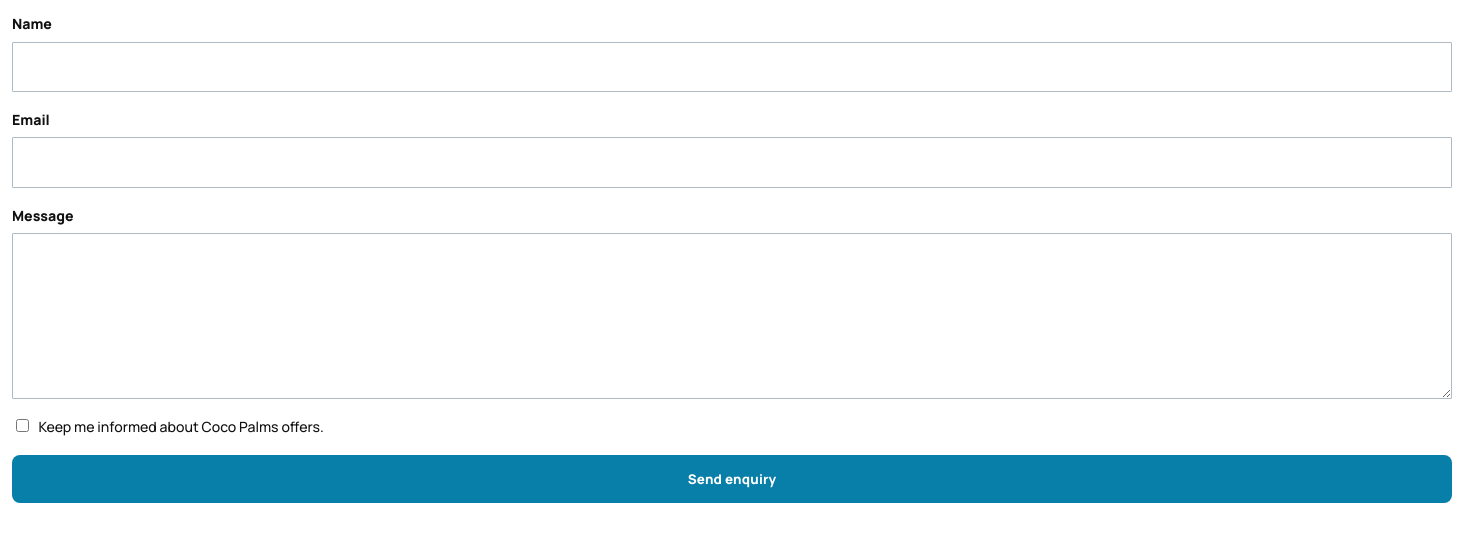
Test case: contact form › records an enquiry after the message succeeds
Type "Alex Guest" into the field labelled "Name" at (732, 67), box [12,42,1452,92]
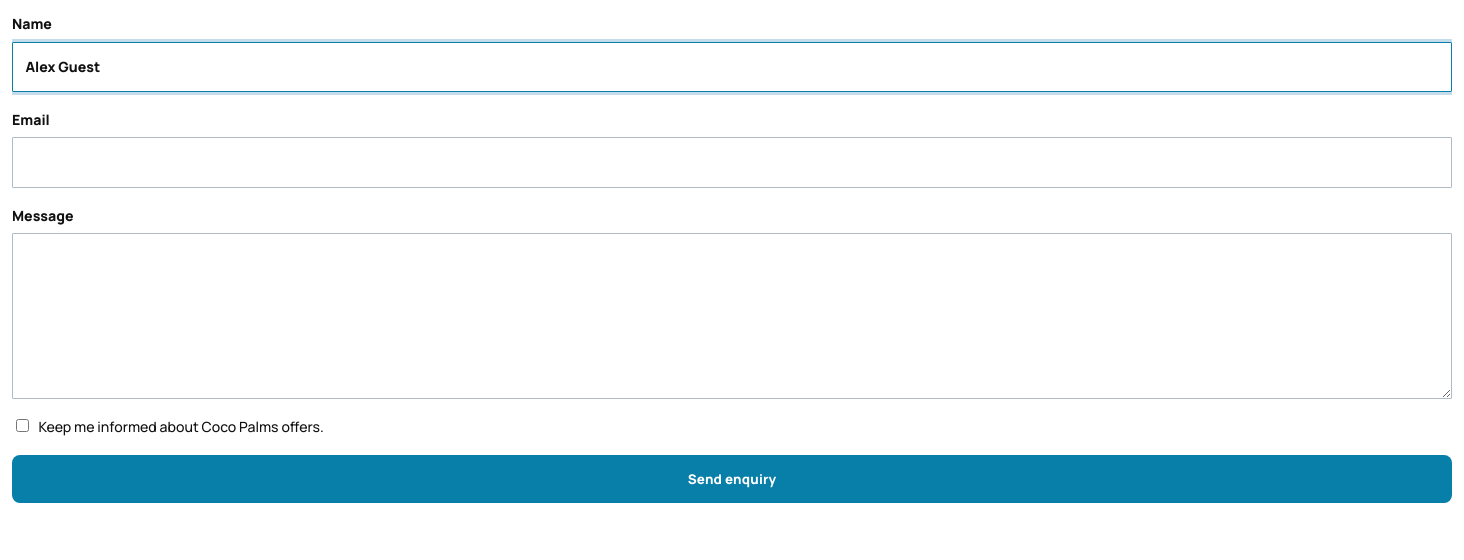
Type "alex@example.com" into the field labelled "Email" at (732, 162), box [12,137,1452,188]
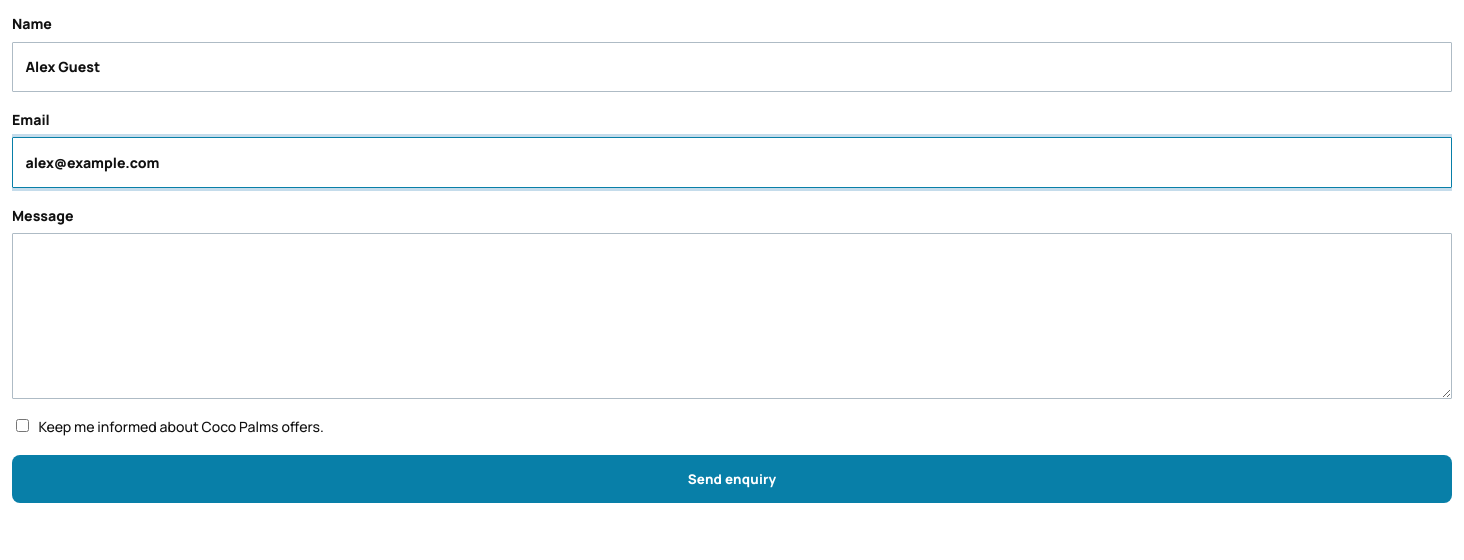
Type "Are these dates available?" into the text box labelled "Message" at (732, 316), box [12,233,1452,399]
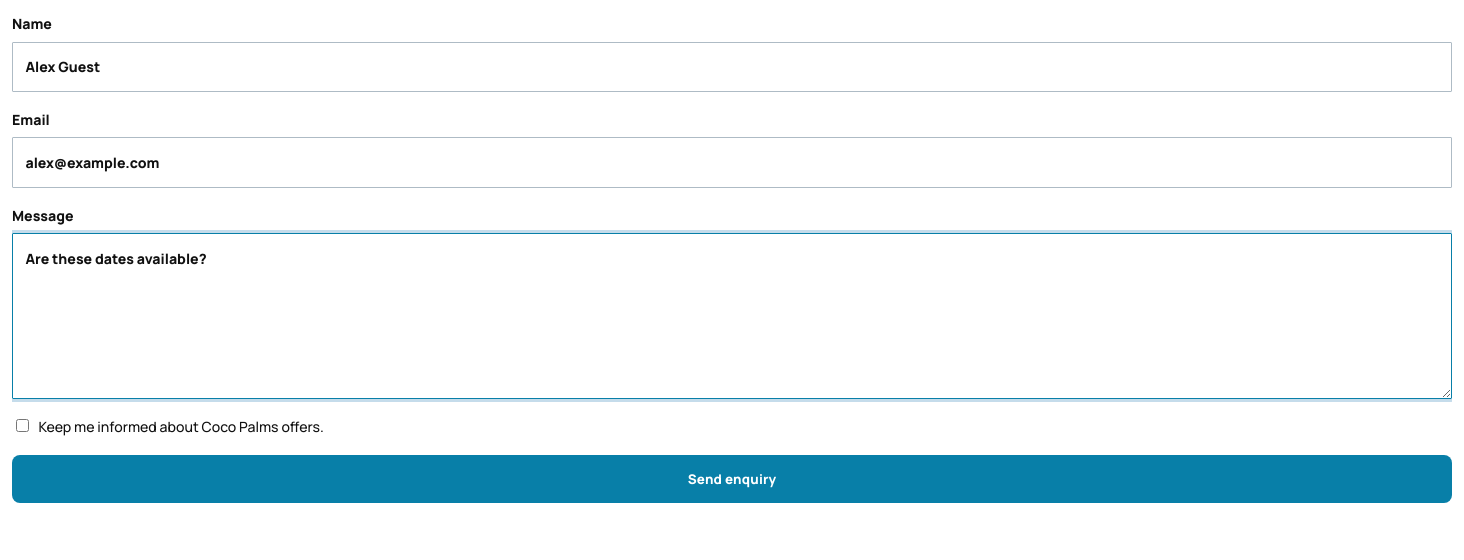
Click the button "Send enquiry" at (732, 479), box [12,455,1452,503]
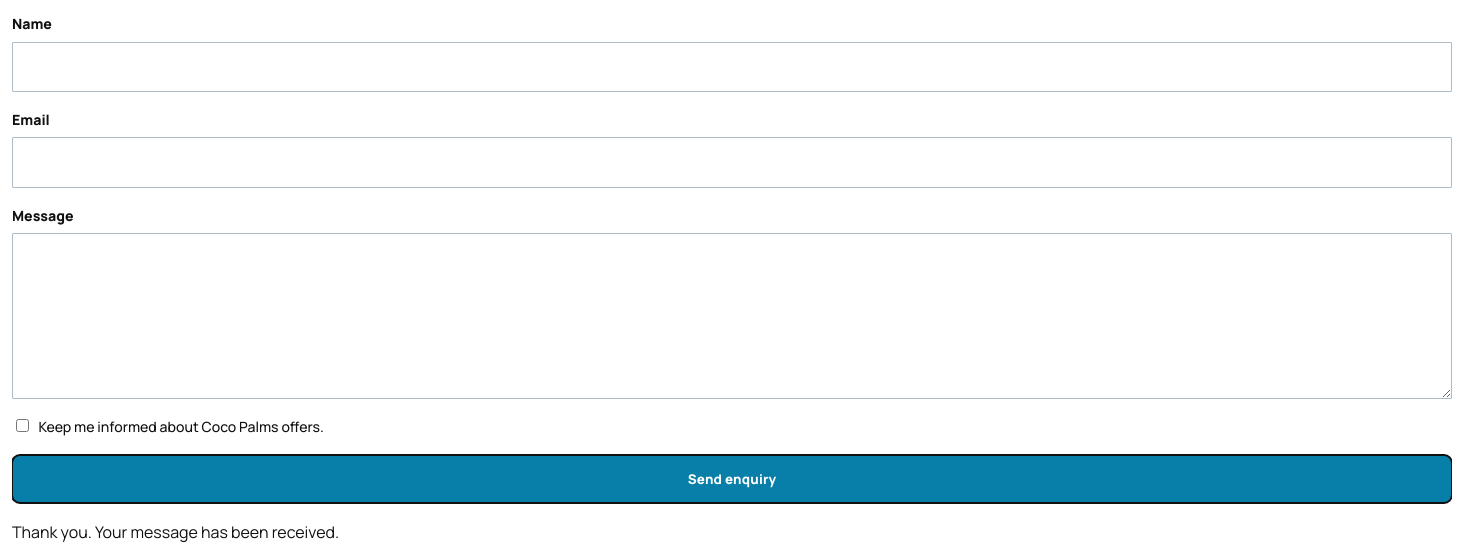
Check: the message reads "Thank you. Your message has been received.", box [12,521,339,543]
